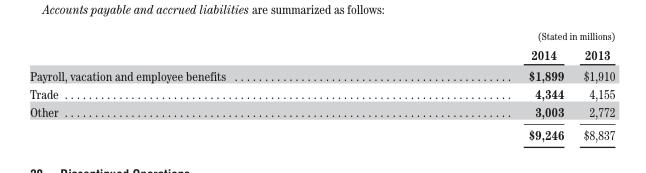table: (29, 28, 614, 142)
table column: (29, 28, 376, 142), (376, 28, 573, 142), (573, 28, 614, 142)
table column header: (29, 28, 614, 64)
table row: (29, 43, 614, 64), (29, 102, 614, 123), (29, 64, 614, 84), (29, 123, 614, 142), (29, 84, 614, 102), (29, 28, 614, 43)
table spanning cell: (376, 28, 614, 43)
